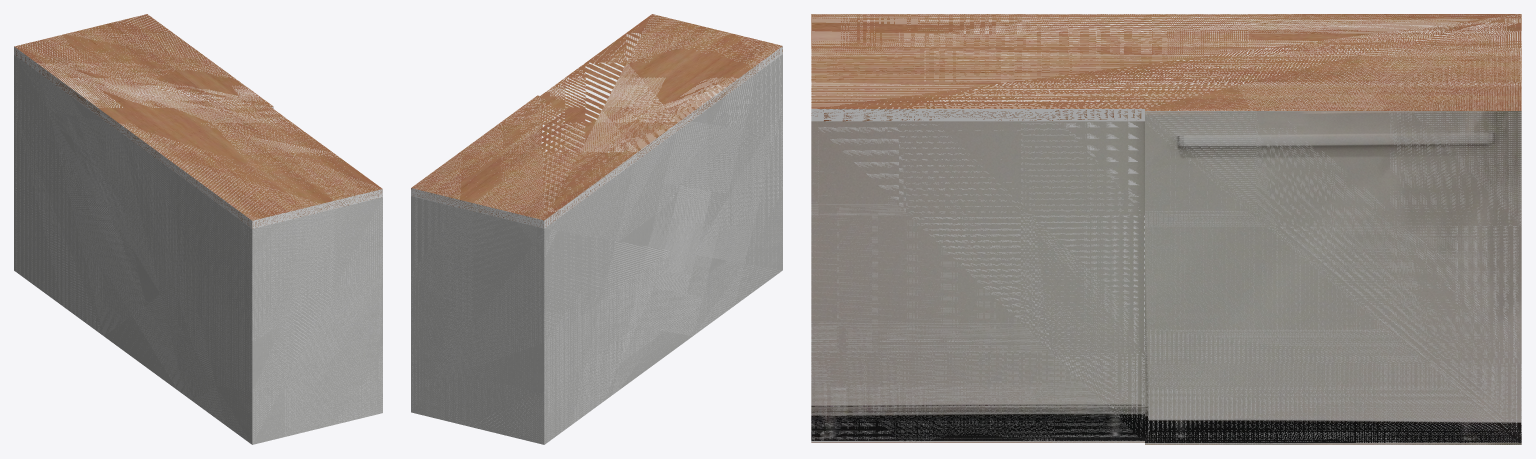
File: livingroom_closet.dae
3 renders of one model, left to right at view 1: azimuth 30°, elevation 25°; view 2: azimuth 150°, elevation 25°; view 3: azimuth 270°, elevation 25°, orthographic. The views are drawn at different scales.
Parts seen in each view (by area): view 1: SketchUp (×2); view 2: SketchUp (×2); view 3: SketchUp (×2).
Boxes of the visible parts, bbox=[...] form: SketchUp (×2): bbox=[14, 14, 382, 444]; SketchUp (×2): bbox=[411, 14, 782, 444]; SketchUp (×2): bbox=[811, 14, 1521, 444].
Size of the model in its own units: 0.5103 by 1.58 by 0.8206.
Materials: 5 (4 with a texture image).
